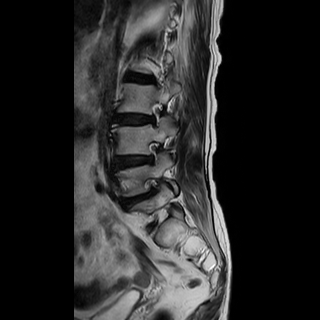RFS0: (143, 135, 165, 168), (145, 98, 166, 132)
RFS3: (143, 173, 164, 200)
